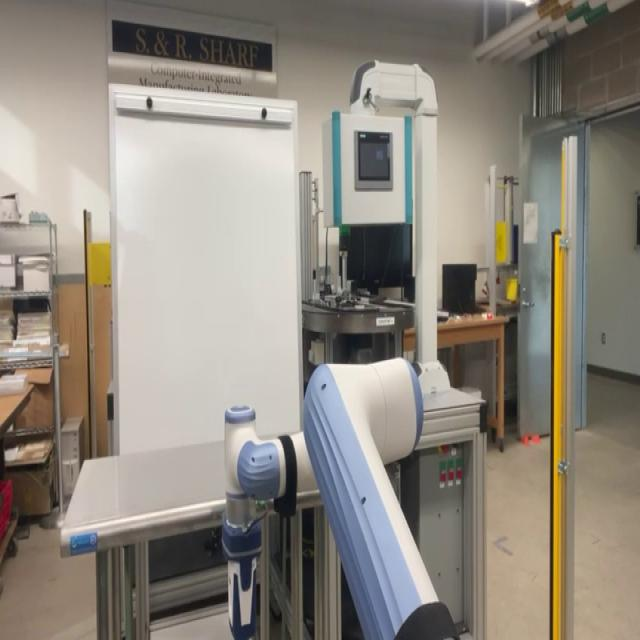human: (353, 130, 393, 190)
robot: (220, 355, 463, 637)
